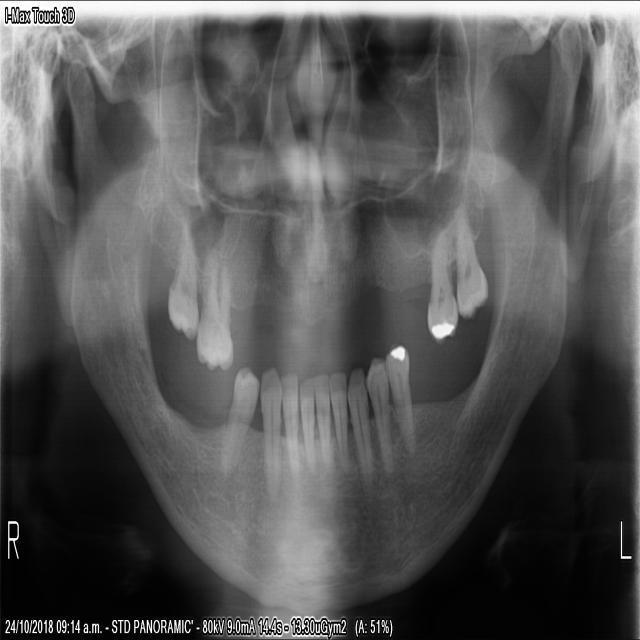LCD: (345, 363, 376, 494)
LID: (307, 371, 335, 468), (329, 371, 354, 472)
LMU: (423, 227, 460, 347), (450, 216, 489, 325)
LPMD: (383, 343, 417, 461), (364, 349, 395, 467)
RCD: (259, 362, 280, 494)
RID: (278, 369, 305, 476), (297, 378, 316, 471)
RMU: (192, 241, 234, 372), (166, 218, 198, 339)
RPMD: (225, 362, 260, 435)
